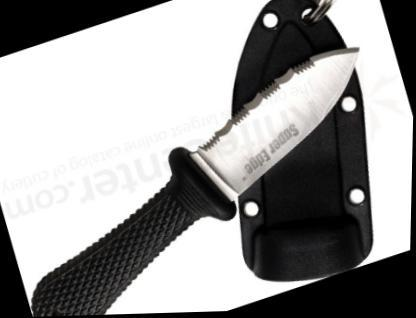knife: (162, 39, 394, 216)
